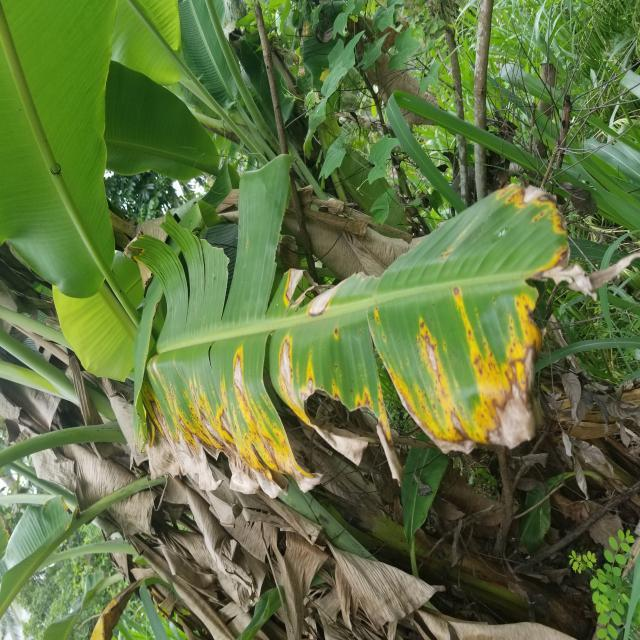Early_rust: (119, 173, 592, 463)
